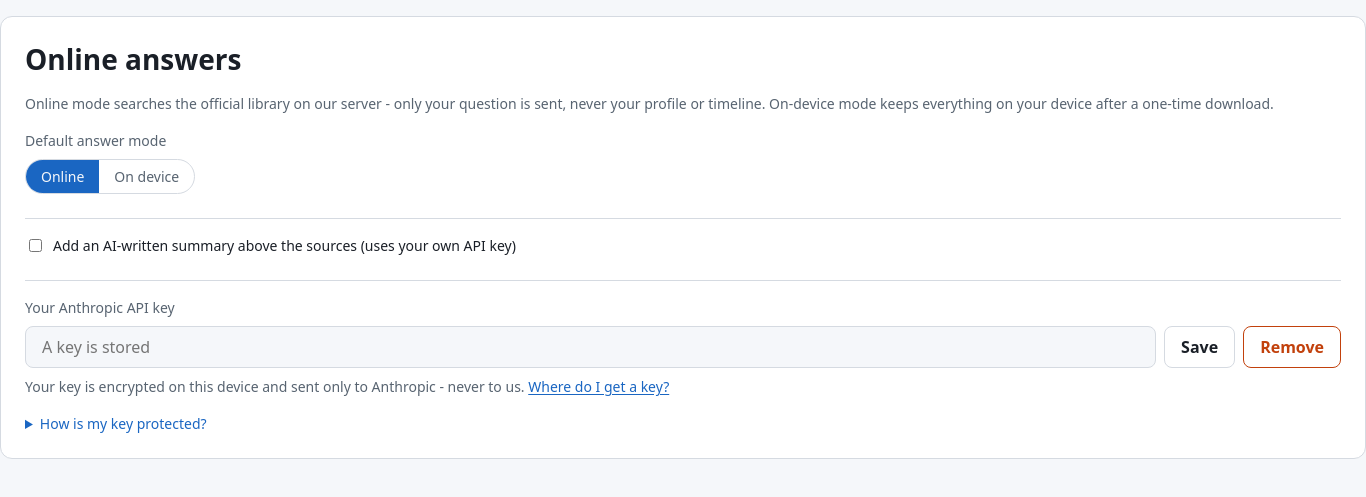
Test: OnlineAnswersPanel › when the key cannot be saved or removed › says so under the row when removing the key fails
Click the button with class "online-key__clear" at x=1292, y=347, box [1243,326,1341,368]
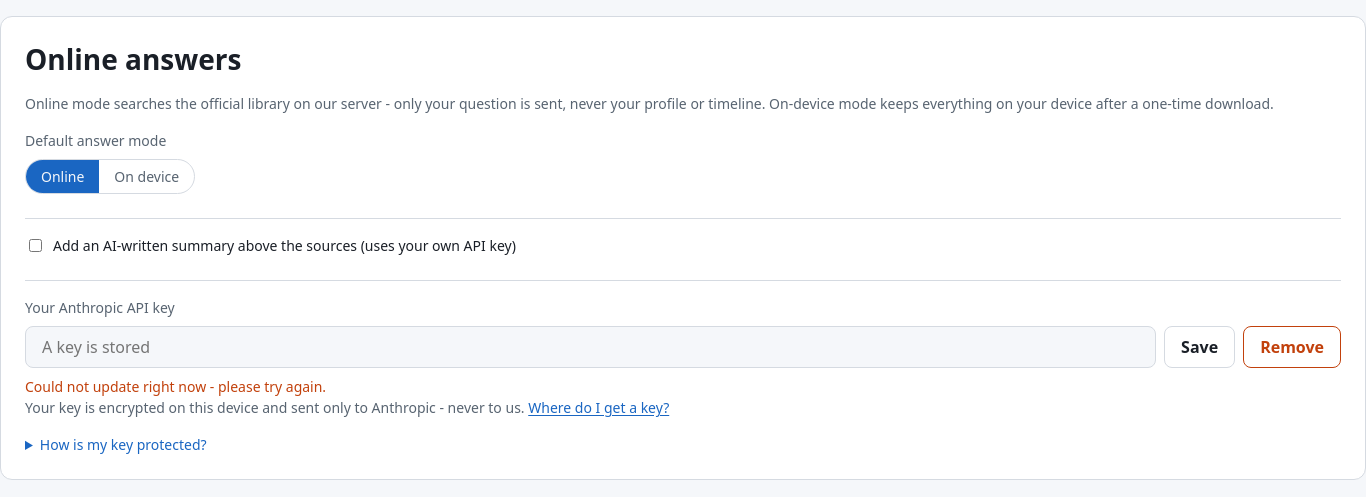
Check: the message with class "online-key__error" reads "Could not update right now - please try again.", box [25,377,326,396]
